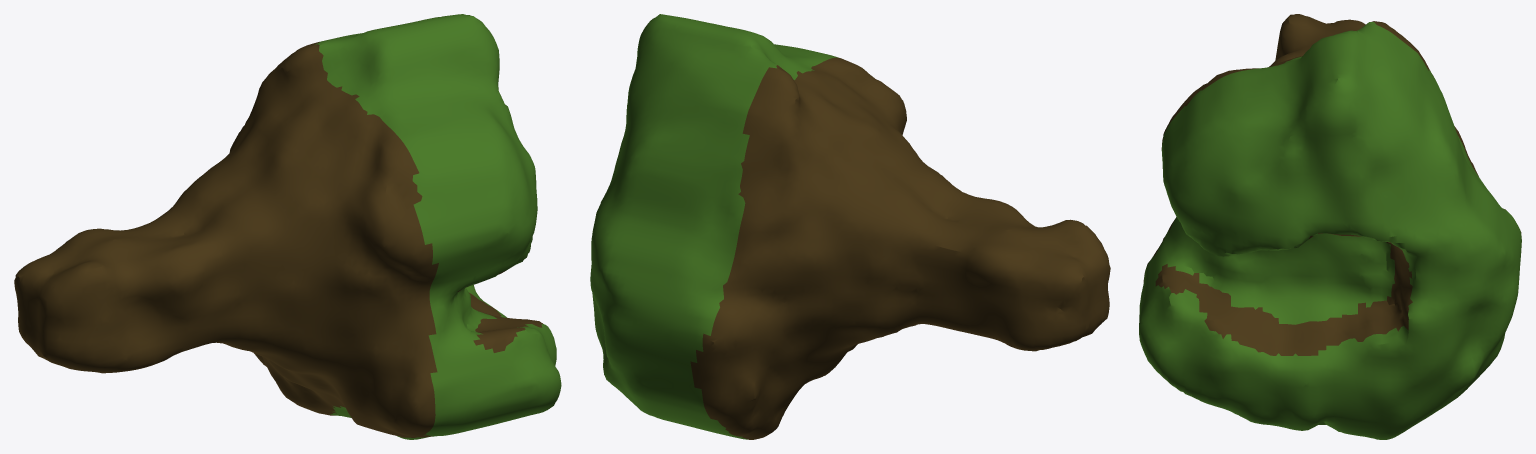
File: LakeEntranceIsland.fbx
The picture shows the model from 3 angles, left to right: view 1: azimuth 30°, elevation 25°; view 2: azimuth 150°, elevation 25°; view 3: azimuth 270°, elevation 25°; orthographic projection. The views are drawn at different scales.
Visible parts, largest first — view 1: LakeEntranceIsland; view 2: LakeEntranceIsland; view 3: LakeEntranceIsland.
Part boxes in pixels (x1=…): LakeEntranceIsland: x1=14, y1=14, x2=561, y2=439; LakeEntranceIsland: x1=590, y1=14, x2=1110, y2=439; LakeEntranceIsland: x1=1139, y1=14, x2=1521, y2=439.
Bounding box in the file's own units: 125 × 98.84 × 91.72.
